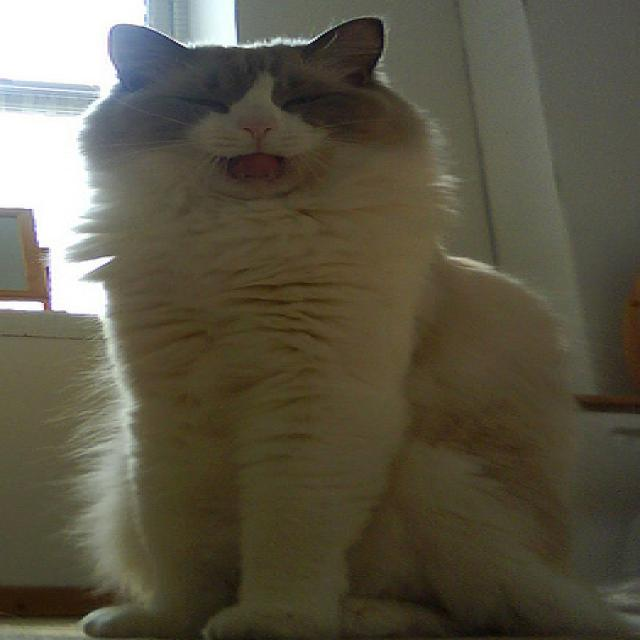Ragdoll: (61, 11, 633, 640)
